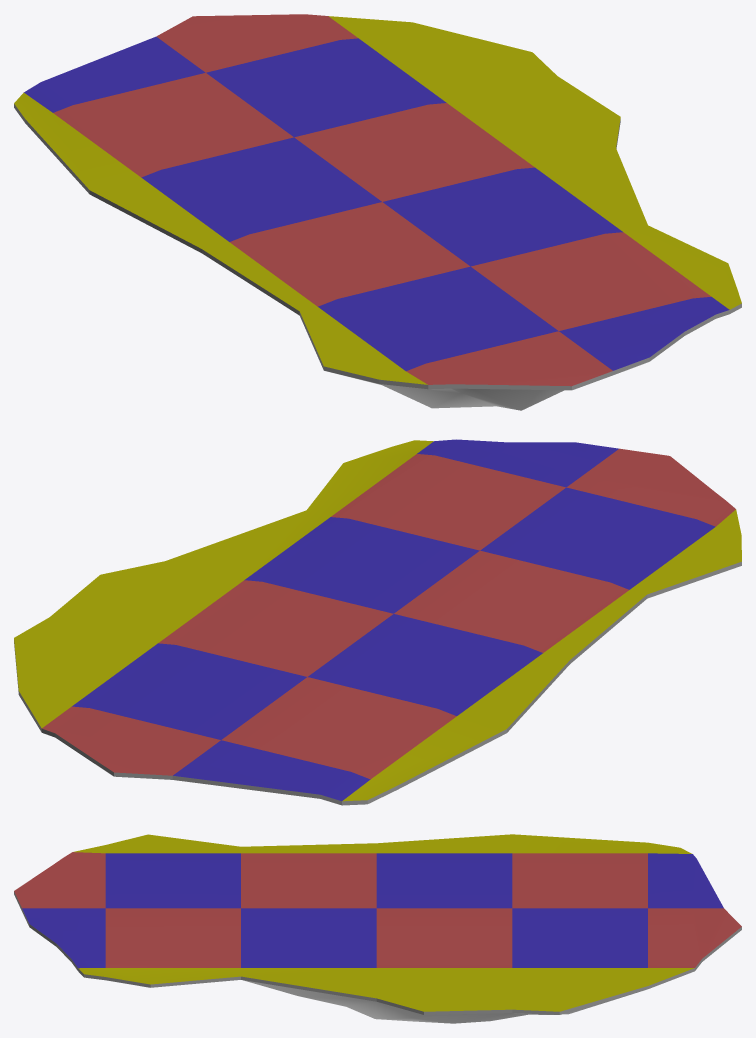
File: Ground.fbx
3 renders of one model, top to bottom at view 1: azimuth 30°, elevation 25°; view 2: azimuth 150°, elevation 25°; view 3: azimuth 270°, elevation 25°, orthographic. The views are drawn at different scales.
Visible parts, largest first — view 1: road_left4, underGround, outline3, outline; view 2: road_left4, outline3, outline8, outline5; view 3: road_left4, underGround, sidesand1.
Boxes of the visible parts, x1,y1,x2,y2 form: road_left4: [14, 14, 741, 386]; underGround: [335, 373, 618, 410]; outline3: [14, 104, 451, 389]; outline: [451, 371, 612, 390]; road_left4: [14, 439, 741, 801]; outline3: [342, 561, 741, 805]; outline8: [172, 776, 341, 805]; outline5: [41, 728, 172, 779]; road_left4: [14, 834, 741, 1011]; underGround: [17, 901, 639, 1023]; sidesand1: [71, 959, 694, 1014].
Size of the model in its own units: 1247 by 2148 by 169.
